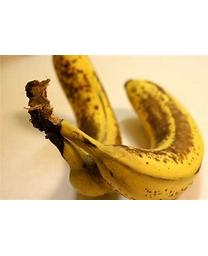banana: (23, 56, 205, 198)
